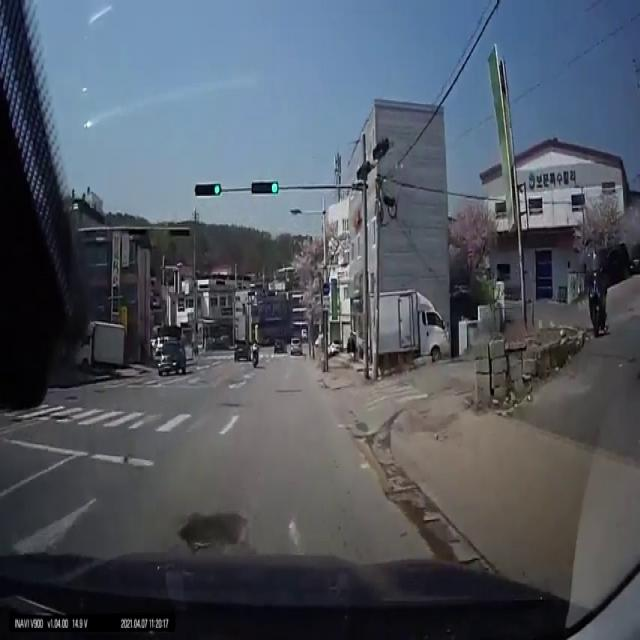Pothole: (180, 504, 249, 553)
